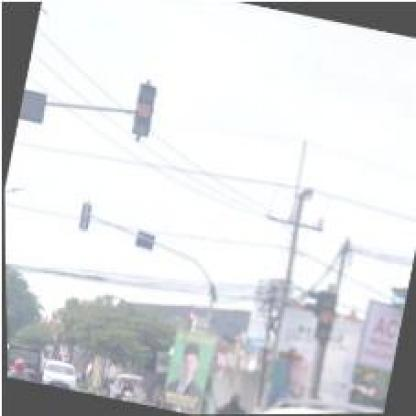yellow: (126, 80, 160, 136), (311, 292, 338, 342)
